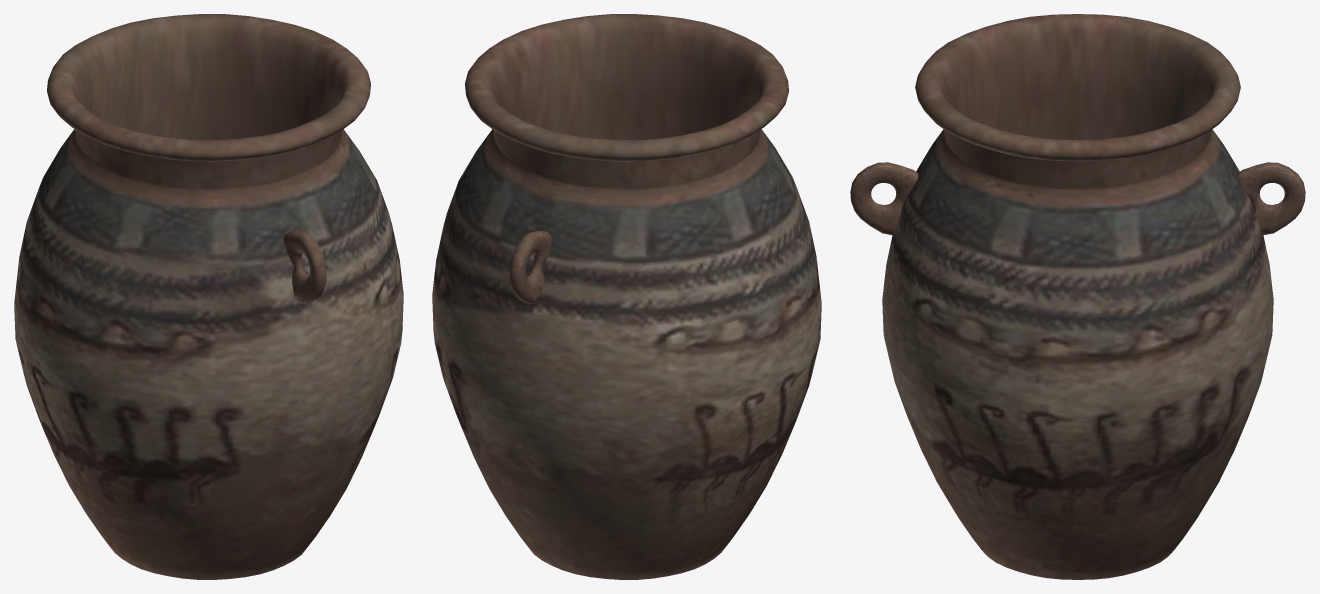
The model's file is Ancient Vase.obj.
3 views of the same model, side by side, from view 1: azimuth 30°, elevation 25°; view 2: azimuth 150°, elevation 25°; view 3: azimuth 270°, elevation 25° (orthographic).
Visible parts, largest first — view 1: Ancient_Vase; view 2: Ancient_Vase; view 3: Ancient_Vase.
Boxes of the visible parts, x1,y1,x2,y2 form: Ancient_Vase: (14,14,403,579); Ancient_Vase: (432,14,821,579); Ancient_Vase: (850,14,1305,579).
Bounding box in the file's own units: 0.5274 × 0.6979 × 0.6169.
1 material, 1 textured.
